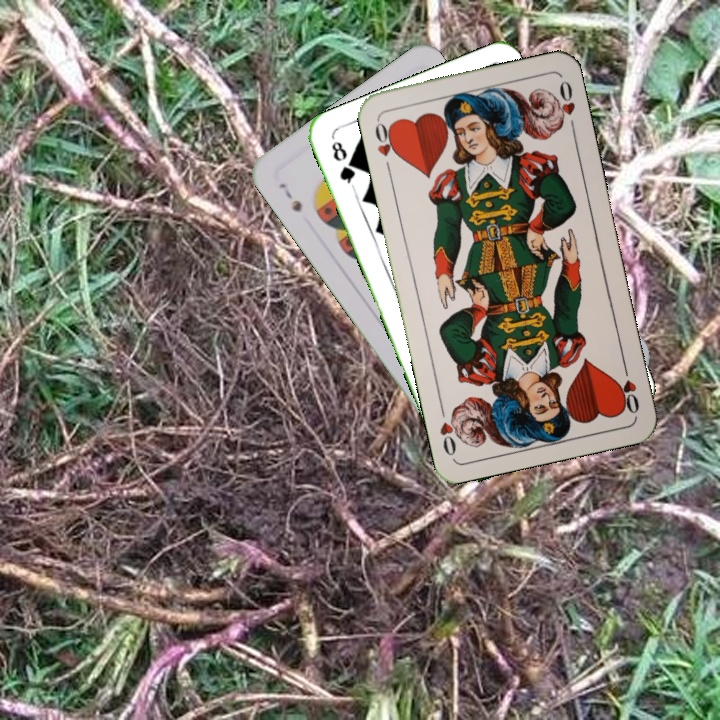G8: (327, 137, 358, 191)
HO: (370, 116, 401, 174), (613, 359, 642, 417)
S7: (274, 178, 305, 215)
